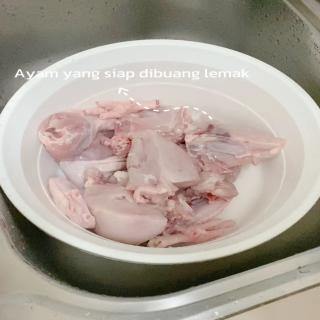Ayam: (35, 98, 291, 251)
